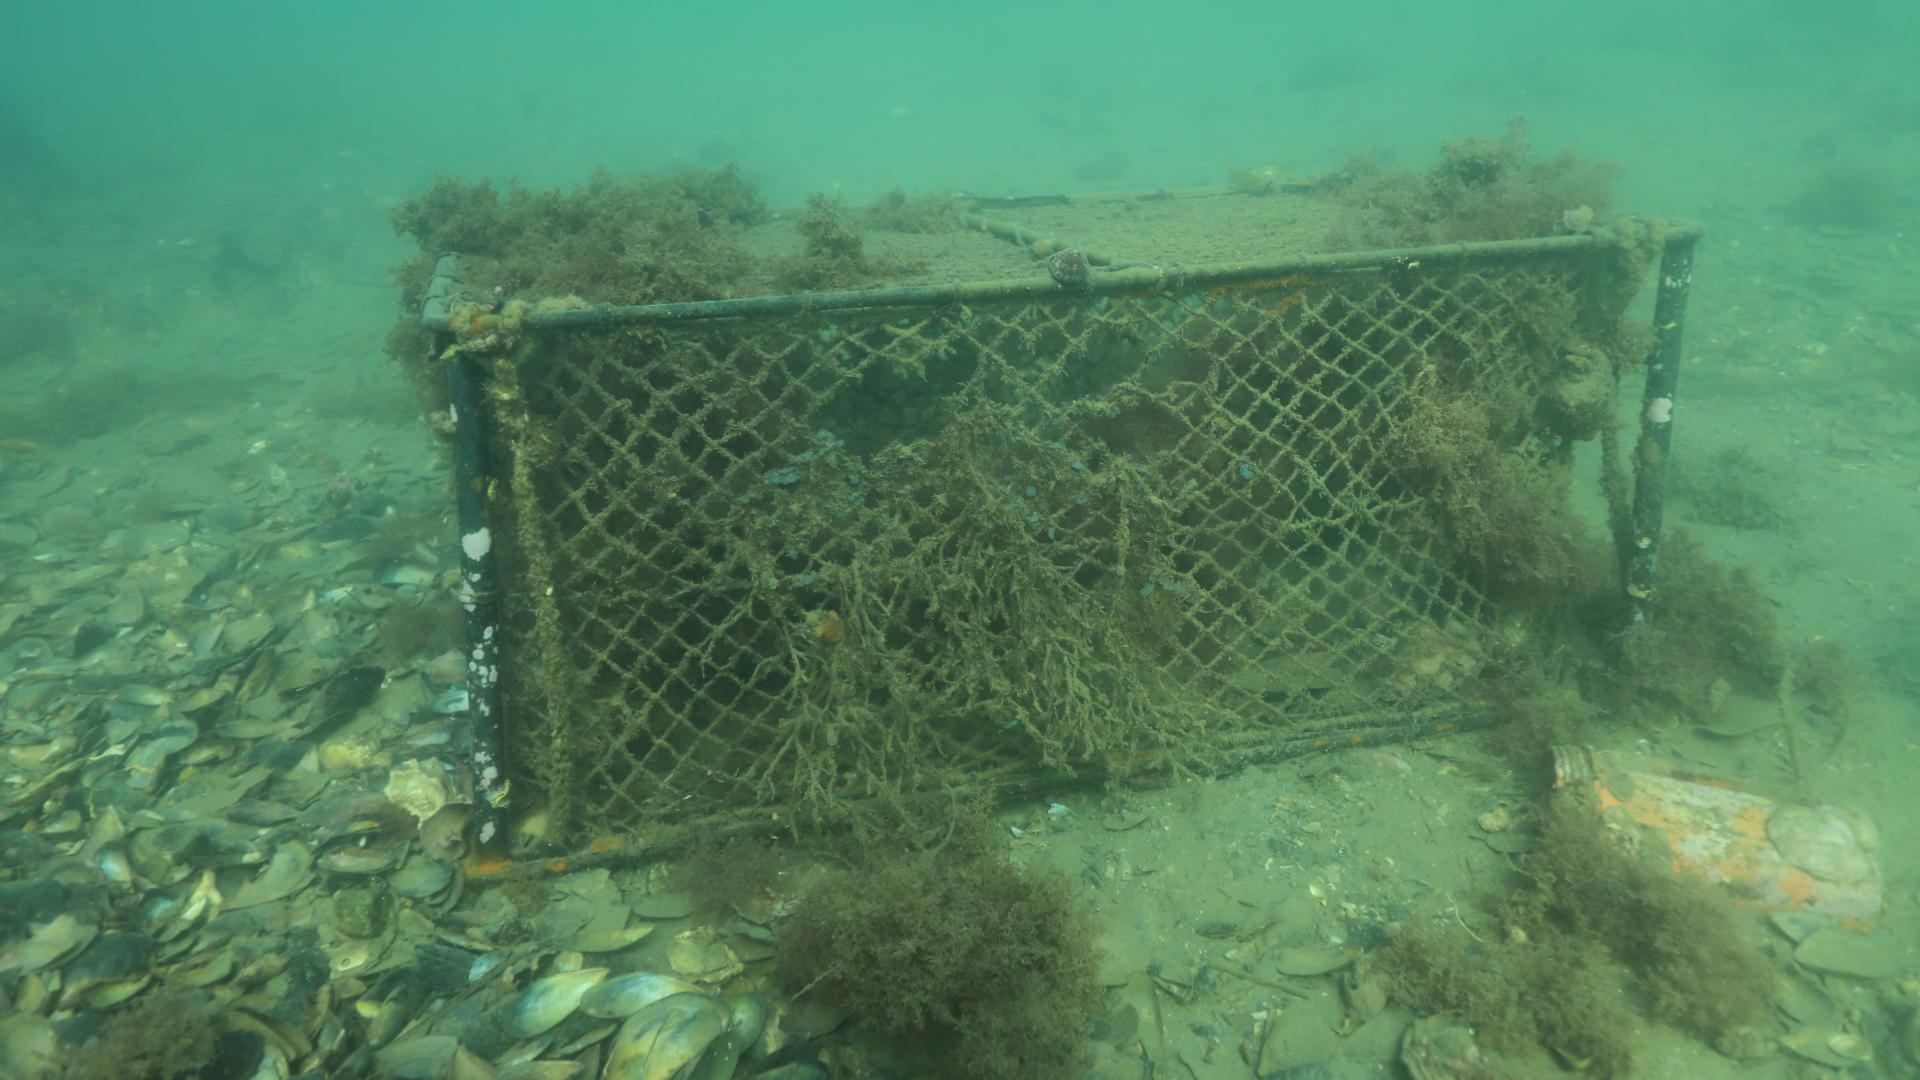rectangular fish trap: (417, 156, 1712, 891)
